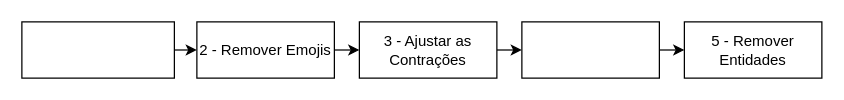
Image size: 844x100. Some labels were removed from this diagram. The shapes that lost their labels are listed below. From the top down, each one's centre as x and y in pixels, then its label:
(x=97, y=49): 1 - Remover Links e Marcas de Agregação
(x=590, y=49): 4 - Remover StopWords
